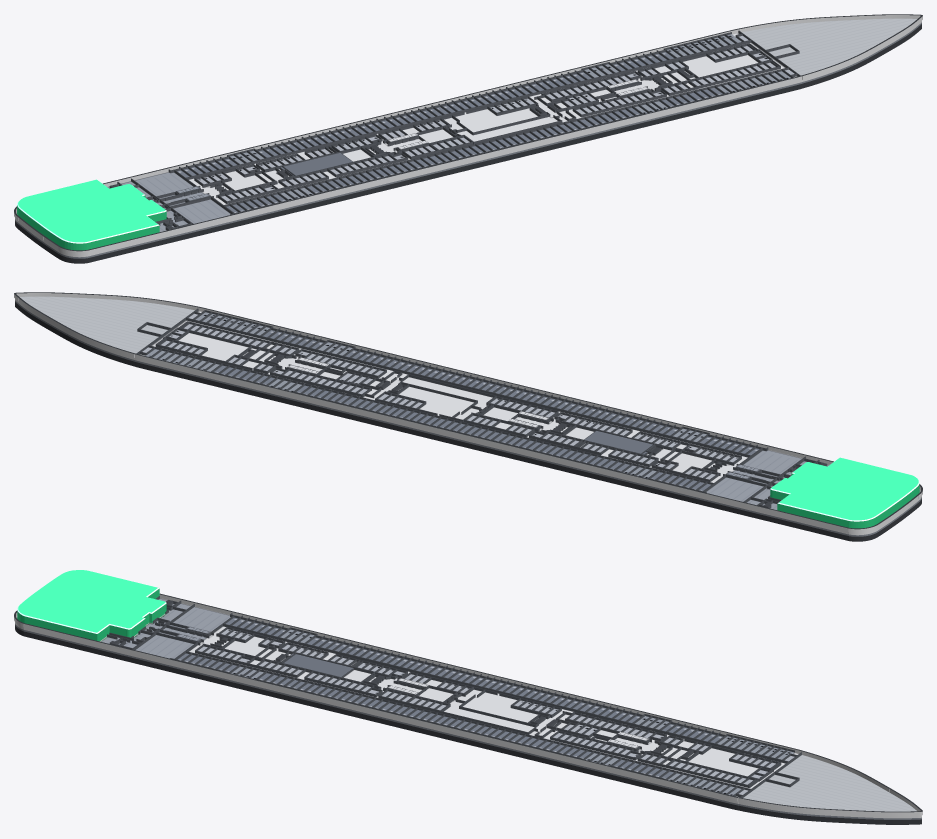
Rendered from Deck5_La_Colombina_Highlight.glb.
3 renders of one model, top to bottom at view 1: azimuth 30°, elevation 25°; view 2: azimuth 150°, elevation 25°; view 3: azimuth 330°, elevation 25°, orthographic.
Parts seen in each view (by area): view 1: Deck5_La_Colombina_Interior_Walls_Monochrome, Deck5_La_Colombina_Main_Floor_Slab, Deck5_La_Colombina_Outer_Hull_Bulwark_Wall, Deck5_La_Colombina_MDR_Embossed_Highlight_Block, Deck5_La_Colombina_Hull_Plinth_Obsidian, Deck5_La_Colombina_ZoneRelief_CabinBlock_394, Deck5_La_Colombina_ZoneRelief_CabinBlock_395, Deck5_La_Colombina_Hull_Waterline_Titanium, Deck5_La_Colombina_Engine_Casing_3D_Core, Deck5_La_Colombina_ZoneRelief_CabinBlock_416; view 2: Deck5_La_Colombina_Interior_Walls_Monochrome, Deck5_La_Colombina_Main_Floor_Slab, Deck5_La_Colombina_Outer_Hull_Bulwark_Wall, Deck5_La_Colombina_MDR_Embossed_Highlight_Block, Deck5_La_Colombina_Hull_Plinth_Obsidian, Deck5_La_Colombina_ZoneRelief_CabinBlock_394, Deck5_La_Colombina_Hull_Waterline_Titanium, Deck5_La_Colombina_ZoneRelief_CabinBlock_395, Deck5_La_Colombina_Engine_Casing_3D_Core; view 3: Deck5_La_Colombina_Interior_Walls_Monochrome, Deck5_La_Colombina_Main_Floor_Slab, Deck5_La_Colombina_Outer_Hull_Bulwark_Wall, Deck5_La_Colombina_MDR_Embossed_Highlight_Block, Deck5_La_Colombina_Hull_Plinth_Obsidian, Deck5_La_Colombina_ZoneRelief_CabinBlock_394, Deck5_La_Colombina_ZoneRelief_CabinBlock_395, Deck5_La_Colombina_Hull_Waterline_Titanium, Deck5_La_Colombina_Engine_Casing_3D_Core, Deck5_La_Colombina_ZoneRelief_CabinBlock_416.
Part boxes in pixels (x1=…): Deck5_La_Colombina_Interior_Walls_Monochrome: x1=109, y1=30, x2=800, y2=230; Deck5_La_Colombina_Main_Floor_Slab: x1=15, y1=18, x2=921, y2=257; Deck5_La_Colombina_Outer_Hull_Bulwark_Wall: x1=14, y1=14, x2=922, y2=254; Deck5_La_Colombina_MDR_Embossed_Highlight_Block: x1=17, y1=179, x2=166, y2=250; Deck5_La_Colombina_Hull_Plinth_Obsidian: x1=15, y1=24, x2=921, y2=263; Deck5_La_Colombina_ZoneRelief_CabinBlock_394: x1=259, y1=72, x2=591, y2=157; Deck5_La_Colombina_ZoneRelief_CabinBlock_395: x1=307, y1=108, x2=639, y2=193; Deck5_La_Colombina_Hull_Waterline_Titanium: x1=15, y1=22, x2=921, y2=258; Deck5_La_Colombina_Engine_Casing_3D_Core: x1=279, y1=152, x2=352, y2=176; Deck5_La_Colombina_ZoneRelief_CabinBlock_416: x1=667, y1=34, x2=741, y2=57; Deck5_La_Colombina_Interior_Walls_Monochrome: x1=136, y1=308, x2=827, y2=508; Deck5_La_Colombina_Main_Floor_Slab: x1=15, y1=296, x2=921, y2=535; Deck5_La_Colombina_Outer_Hull_Bulwark_Wall: x1=14, y1=292, x2=922, y2=532; Deck5_La_Colombina_MDR_Embossed_Highlight_Block: x1=770, y1=457, x2=919, y2=528; Deck5_La_Colombina_Hull_Plinth_Obsidian: x1=15, y1=302, x2=921, y2=541; Deck5_La_Colombina_ZoneRelief_CabinBlock_394: x1=297, y1=385, x2=629, y2=471; Deck5_La_Colombina_Hull_Waterline_Titanium: x1=15, y1=300, x2=921, y2=536; Deck5_La_Colombina_ZoneRelief_CabinBlock_395: x1=345, y1=350, x2=677, y2=435; Deck5_La_Colombina_Engine_Casing_3D_Core: x1=582, y1=430, x2=656, y2=454; Deck5_La_Colombina_Interior_Walls_Monochrome: x1=107, y1=596, x2=801, y2=797; Deck5_La_Colombina_Main_Floor_Slab: x1=15, y1=598, x2=921, y2=818; Deck5_La_Colombina_Outer_Hull_Bulwark_Wall: x1=14, y1=593, x2=922, y2=815; Deck5_La_Colombina_MDR_Embossed_Highlight_Block: x1=17, y1=570, x2=166, y2=641; Deck5_La_Colombina_Hull_Plinth_Obsidian: x1=15, y1=625, x2=921, y2=824; Deck5_La_Colombina_ZoneRelief_CabinBlock_394: x1=307, y1=637, x2=640, y2=722; Deck5_La_Colombina_ZoneRelief_CabinBlock_395: x1=258, y1=673, x2=591, y2=758; Deck5_La_Colombina_Hull_Waterline_Titanium: x1=15, y1=623, x2=921, y2=819; Deck5_La_Colombina_Engine_Casing_3D_Core: x1=282, y1=653, x2=353, y2=677; Deck5_La_Colombina_ZoneRelief_CabinBlock_416: x1=717, y1=736, x2=794, y2=759.
Size of the model in its own units: 67.55 by 1.46 by 8.6.
14 materials, 2 textured.
